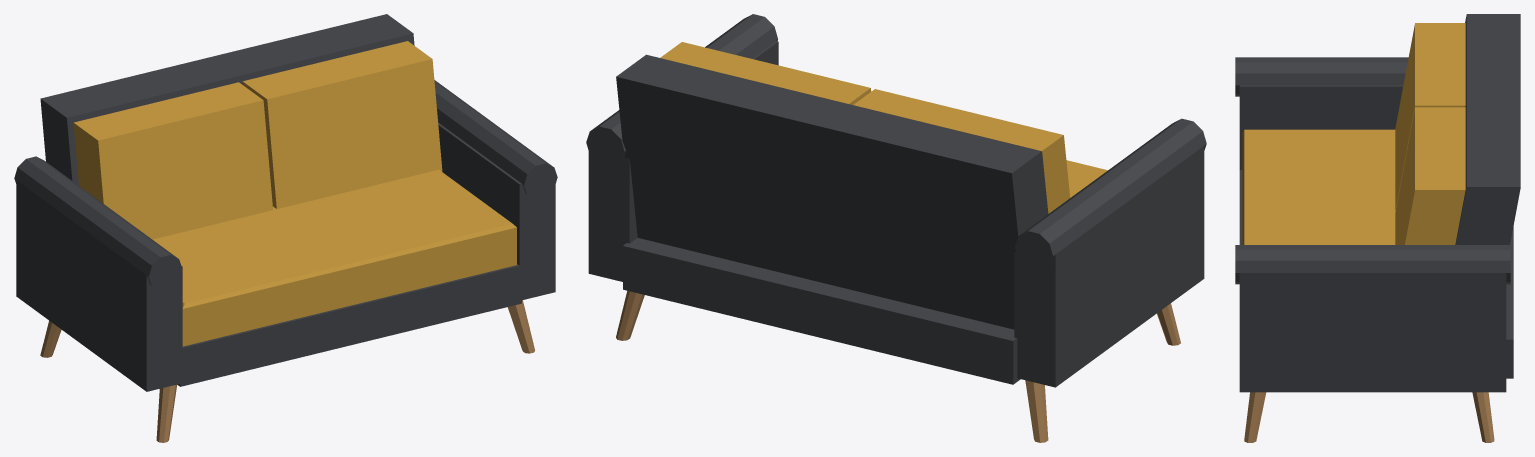
Rendered from FN_Sofa_Loveseat.obj.
3 renders of one model, left to right at view 1: azimuth 30°, elevation 25°; view 2: azimuth 150°, elevation 25°; view 3: azimuth 270°, elevation 25°, orthographic. The views are drawn at different scales.
Parts seen in each view (by area): view 1: FN_Sofa_Loveseat; view 2: FN_Sofa_Loveseat; view 3: FN_Sofa_Loveseat.
Part boxes in pixels (x1=…): FN_Sofa_Loveseat: x1=14, y1=14, x2=557, y2=442; FN_Sofa_Loveseat: x1=586, y1=14, x2=1206, y2=442; FN_Sofa_Loveseat: x1=1235, y1=14, x2=1520, y2=442.
Size of the model in its own units: 1.34 by 0.76 by 0.792.
Materials: 1 (1 with a texture image).
